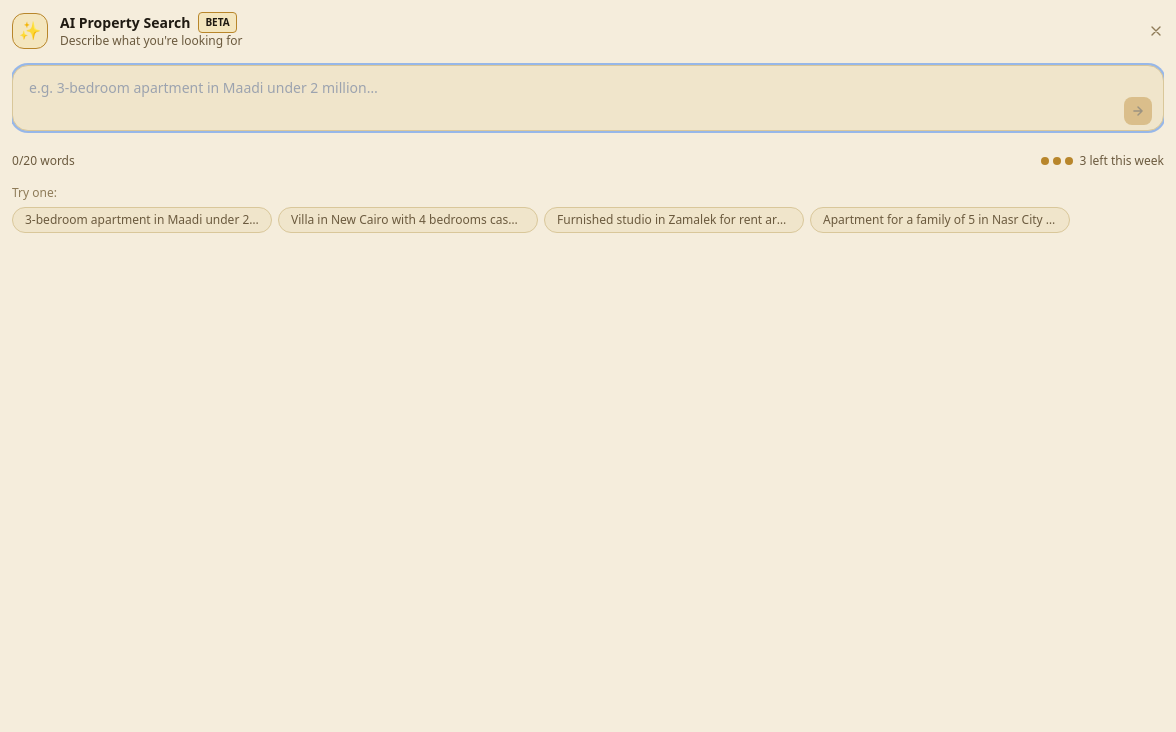
Test case: AISearchPanel › renders fallback notice when meta.notice is set
This screenshot has width=1176, height=732.
Type "3 bedroom apartment in Maadi under 2 million" into the text box with placeholder "e.g. 3-bedroom apartment in Maadi under 2 million…" at [588, 98], box [12,65,1164,131]
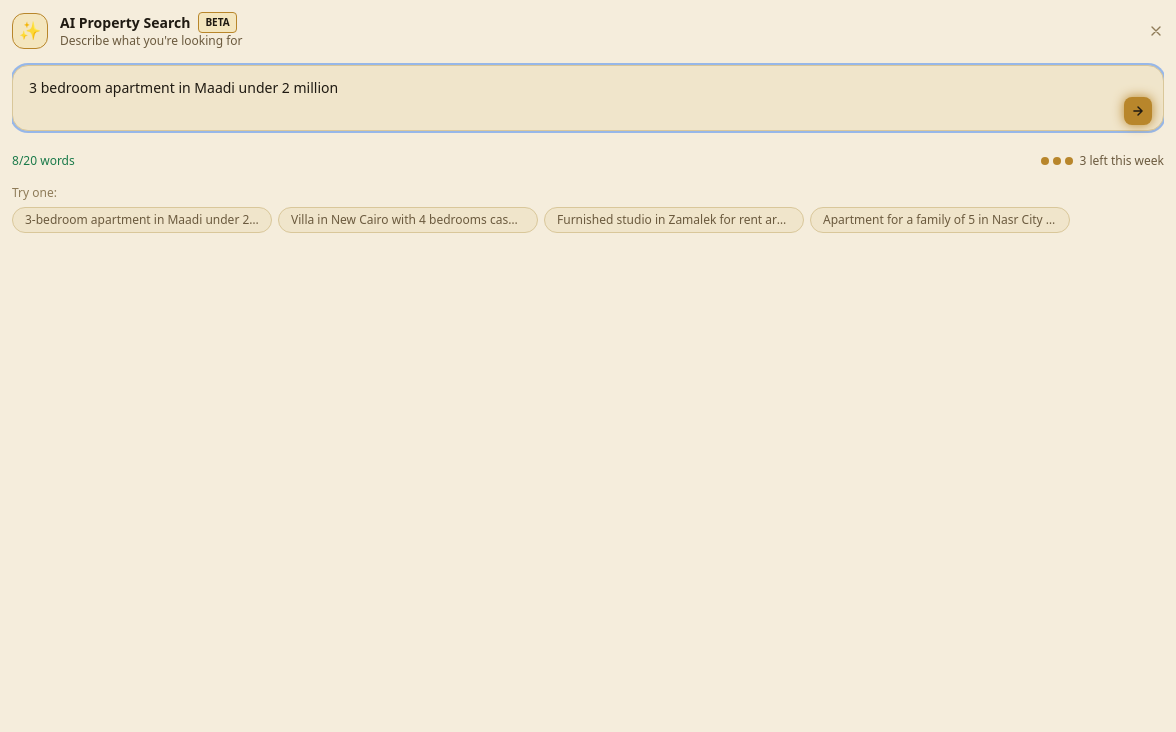
Press Enter
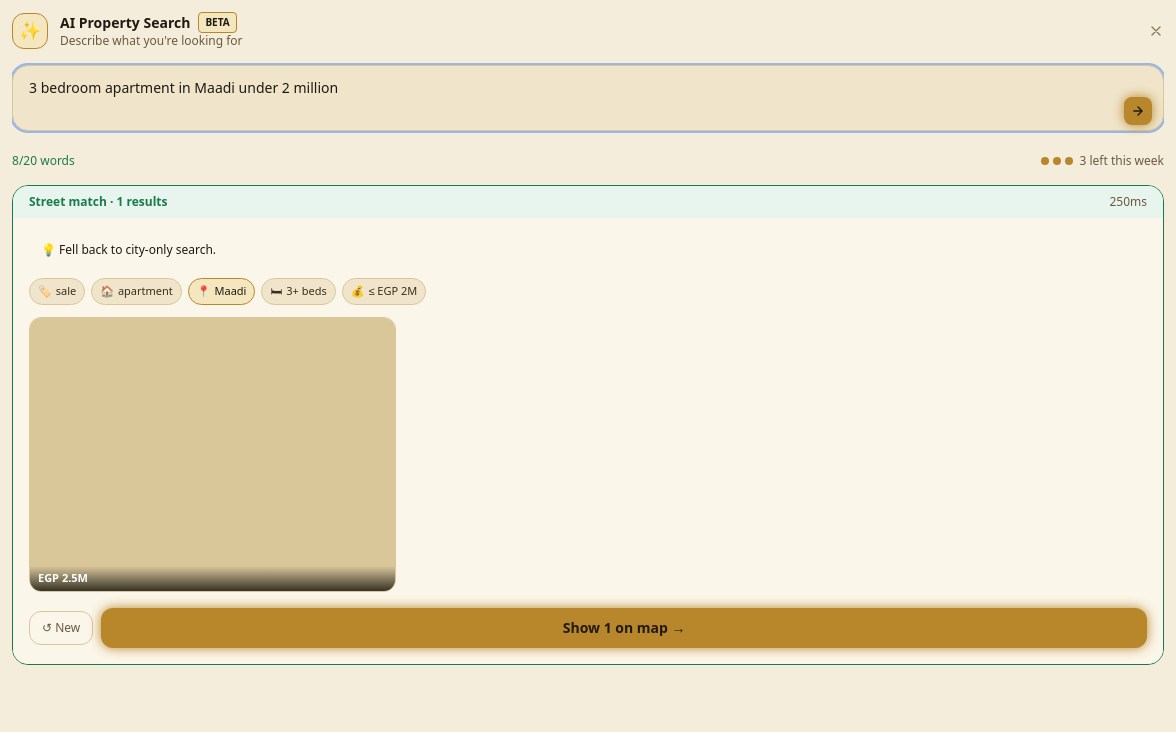
Now the text "💡 Fell back to city-only search." is shown, box [41,241,216,258]
